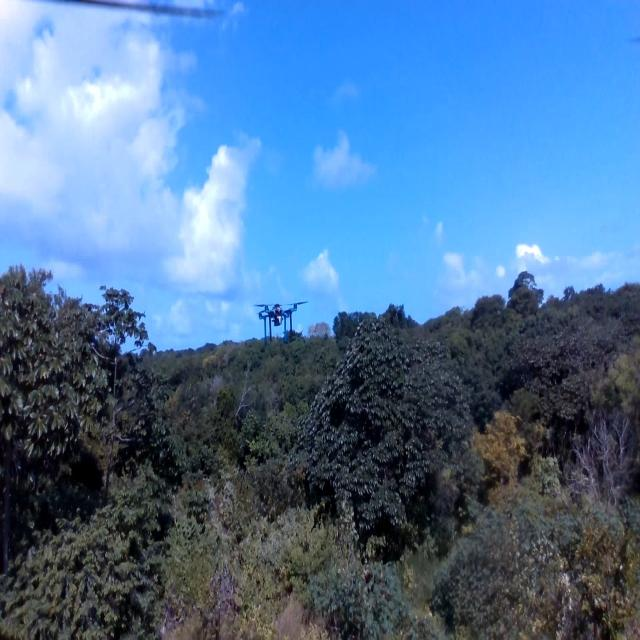-uav-: (254, 290, 308, 344)
